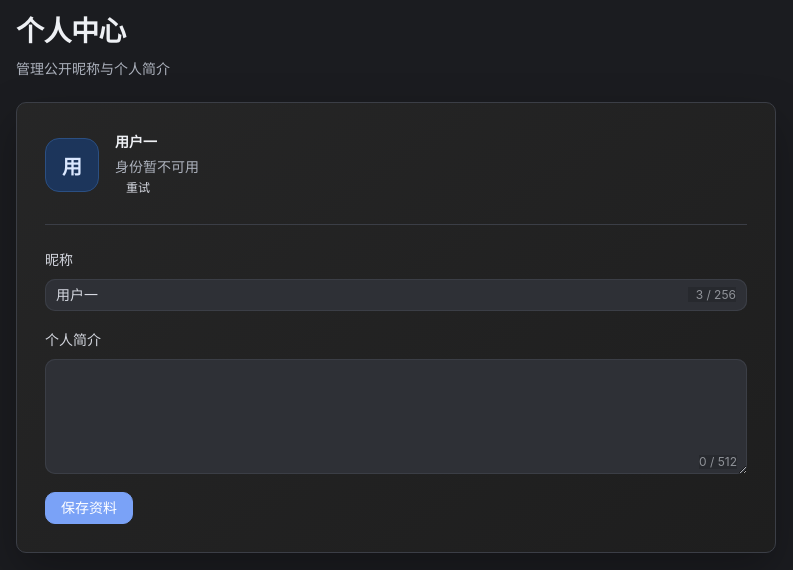
Test: shows a retryable unavailable status instead of misclassifying a failed lookup
Check: the element with class "identity" shows "身份暂不可用", box [115,158,199,175]
Click the button with class "membership-retry" at (138, 188), box [115,176,161,200]
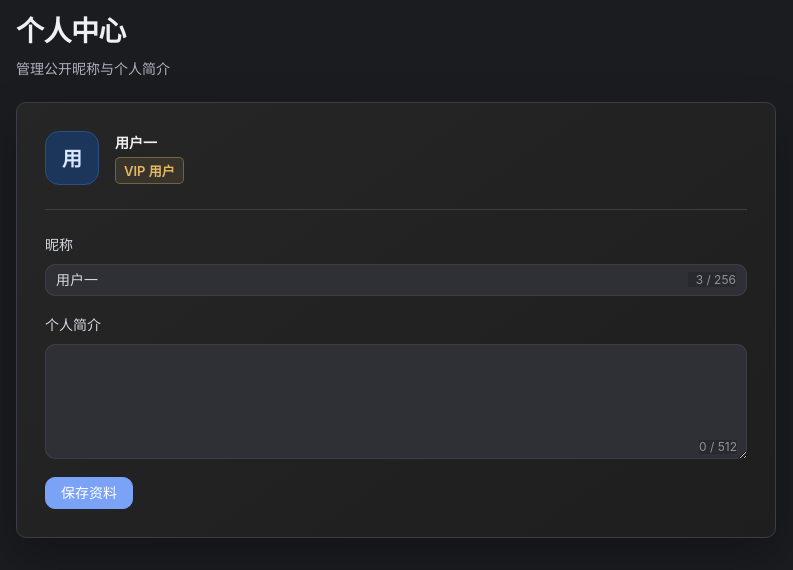
Check: the element with class "identity" shows "VIP 用户", box [124,163,175,179]
